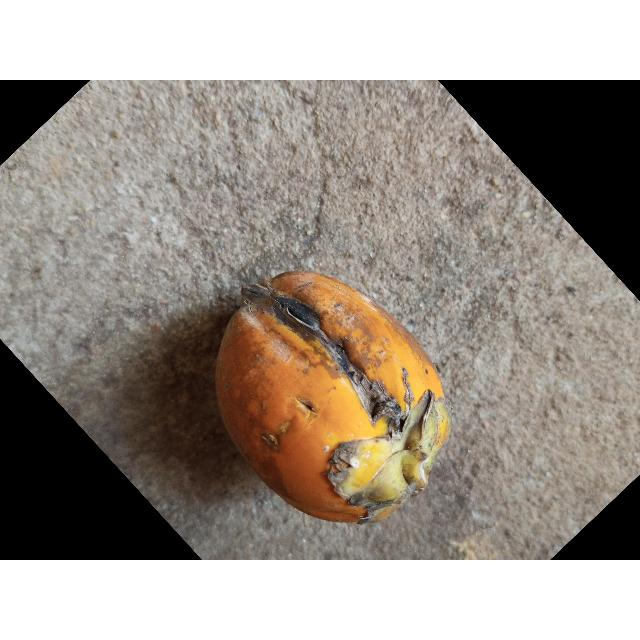damaged: (214, 272, 451, 525)
